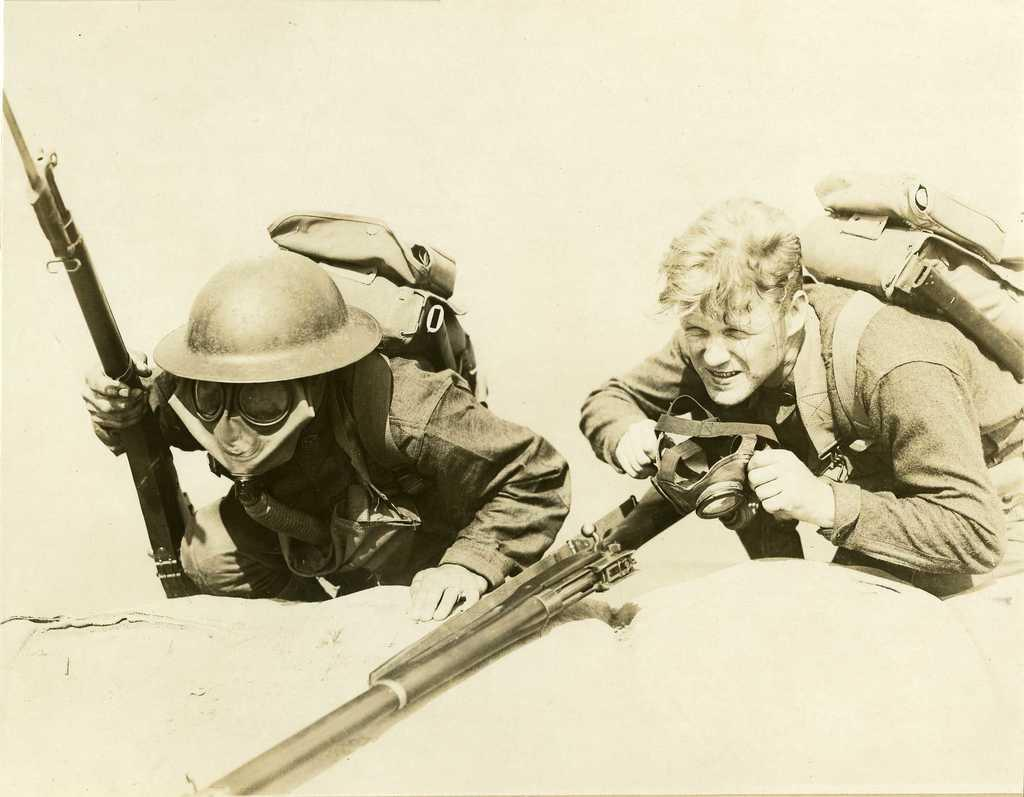Rifle: (184, 416, 721, 796), (1, 86, 191, 597)
